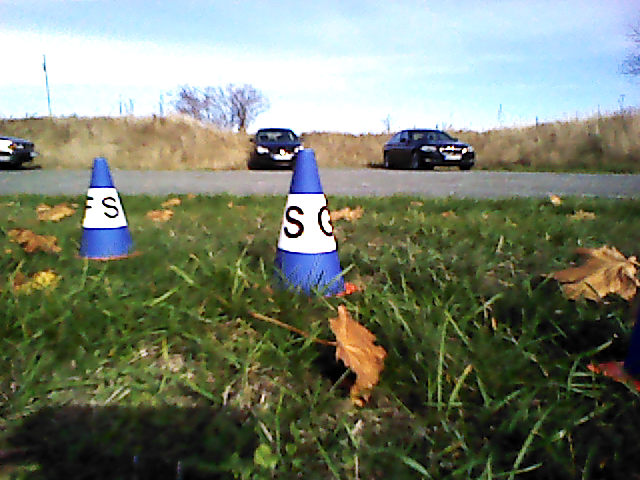bluecone: (273, 149, 346, 291), (81, 158, 133, 257)
